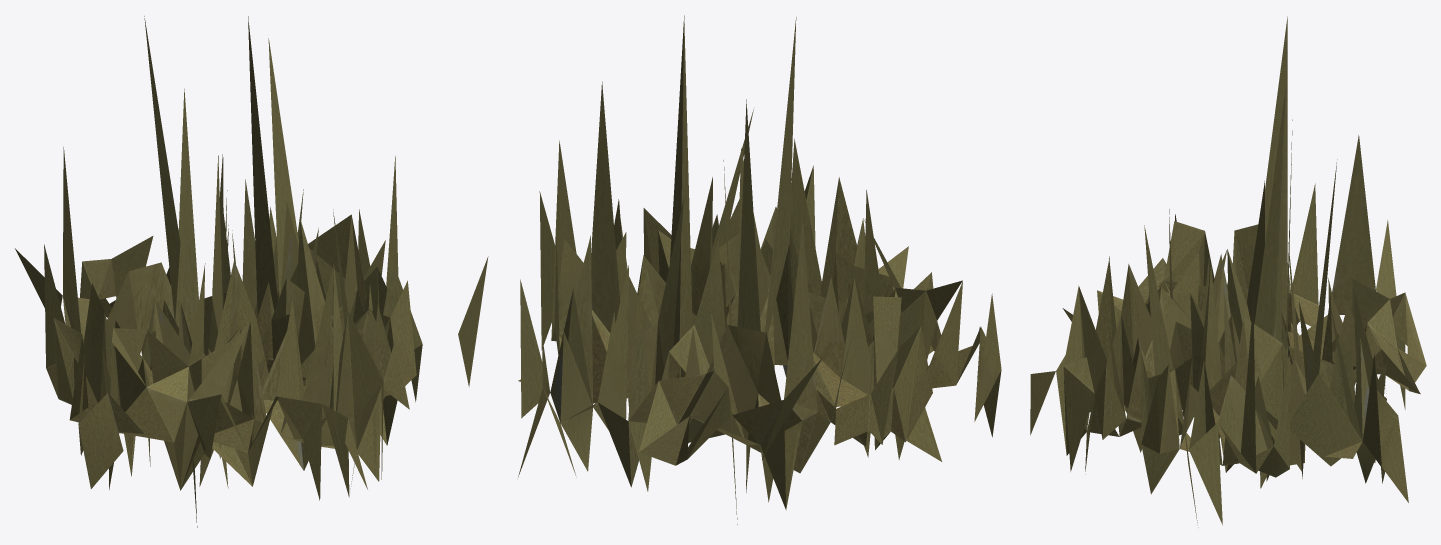
The model's file is reed.glb.
The picture shows the model from 3 angles, left to right: view 1: azimuth 30°, elevation 25°; view 2: azimuth 150°, elevation 25°; view 3: azimuth 270°, elevation 25°; orthographic projection. The views are drawn at different scales.
Size of the model in its own units: 1.28 by 1.25 by 1.12.
Materials: 1 (1 with a texture image).
